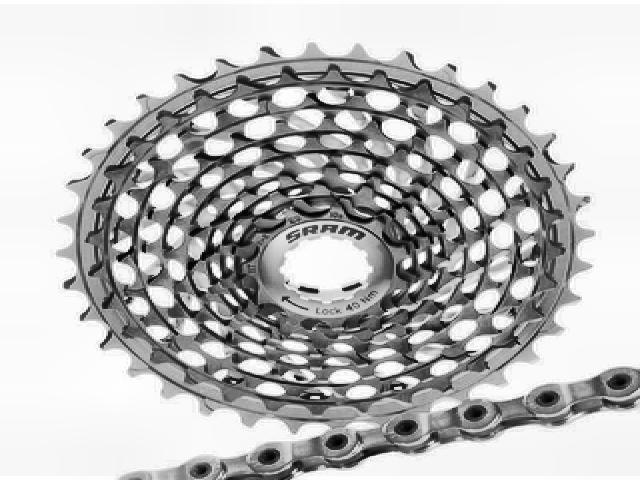cassette: (56, 41, 595, 437)
